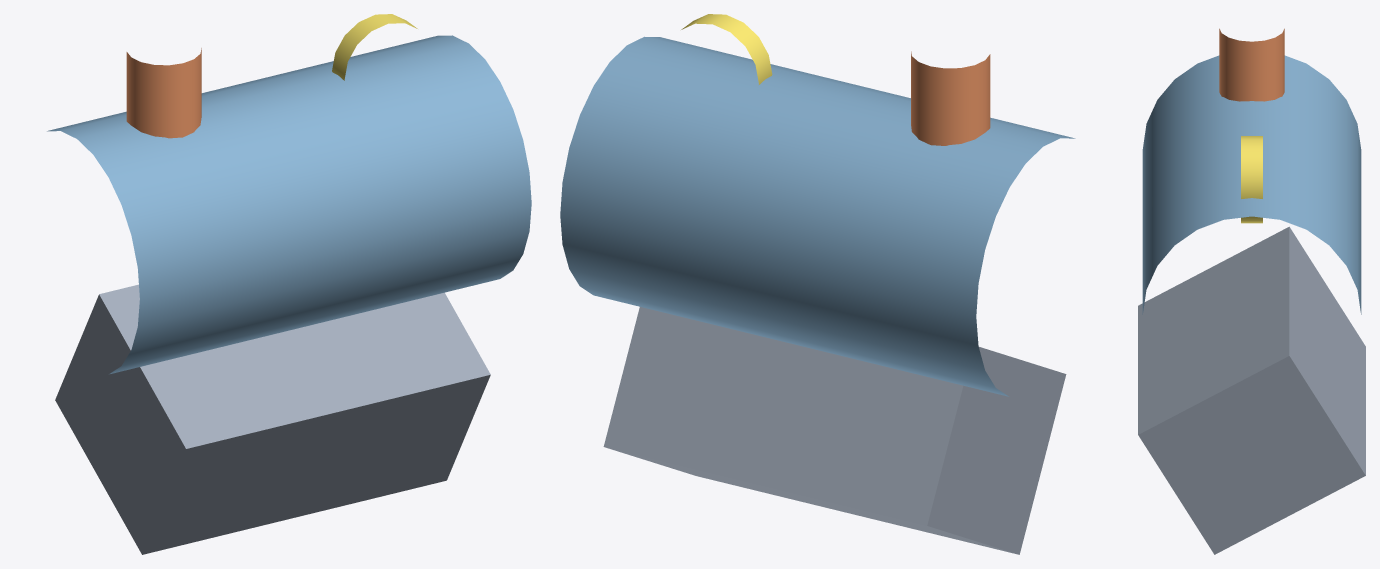
Rendered from steam_boilers_mountings.glb.
The picture shows the model from 3 angles, left to right: view 1: azimuth 30°, elevation 25°; view 2: azimuth 150°, elevation 25°; view 3: azimuth 270°, elevation 25°; orthographic projection. The views are drawn at different scales.
Parts seen in each view (by area): view 1: BabcockBoilerSteamDrum, WaterTubesInclinedBank, SpringLoadedSafetyValve, BourdonSteamPressureGauge; view 2: BabcockBoilerSteamDrum, WaterTubesInclinedBank, SpringLoadedSafetyValve, BourdonSteamPressureGauge; view 3: WaterTubesInclinedBank, BabcockBoilerSteamDrum, SpringLoadedSafetyValve, BourdonSteamPressureGauge.
Boxes of the visible parts, bbox=[...] form: BabcockBoilerSteamDrum: bbox=[47, 35, 531, 374]; WaterTubesInclinedBank: bbox=[55, 284, 490, 554]; SpringLoadedSafetyValve: bbox=[126, 48, 201, 138]; BourdonSteamPressureGauge: bbox=[332, 14, 417, 80]; BabcockBoilerSteamDrum: bbox=[560, 36, 1075, 396]; WaterTubesInclinedBank: bbox=[603, 307, 1066, 554]; SpringLoadedSafetyValve: bbox=[911, 51, 990, 145]; BourdonSteamPressureGauge: bbox=[681, 14, 772, 84]; WaterTubesInclinedBank: bbox=[1138, 226, 1365, 554]; BabcockBoilerSteamDrum: bbox=[1142, 55, 1361, 314]; SpringLoadedSafetyValve: bbox=[1219, 28, 1284, 101]; BourdonSteamPressureGauge: bbox=[1241, 136, 1262, 223].
Size of the model in its own units: 1.8 by 2.1 by 1.04.
